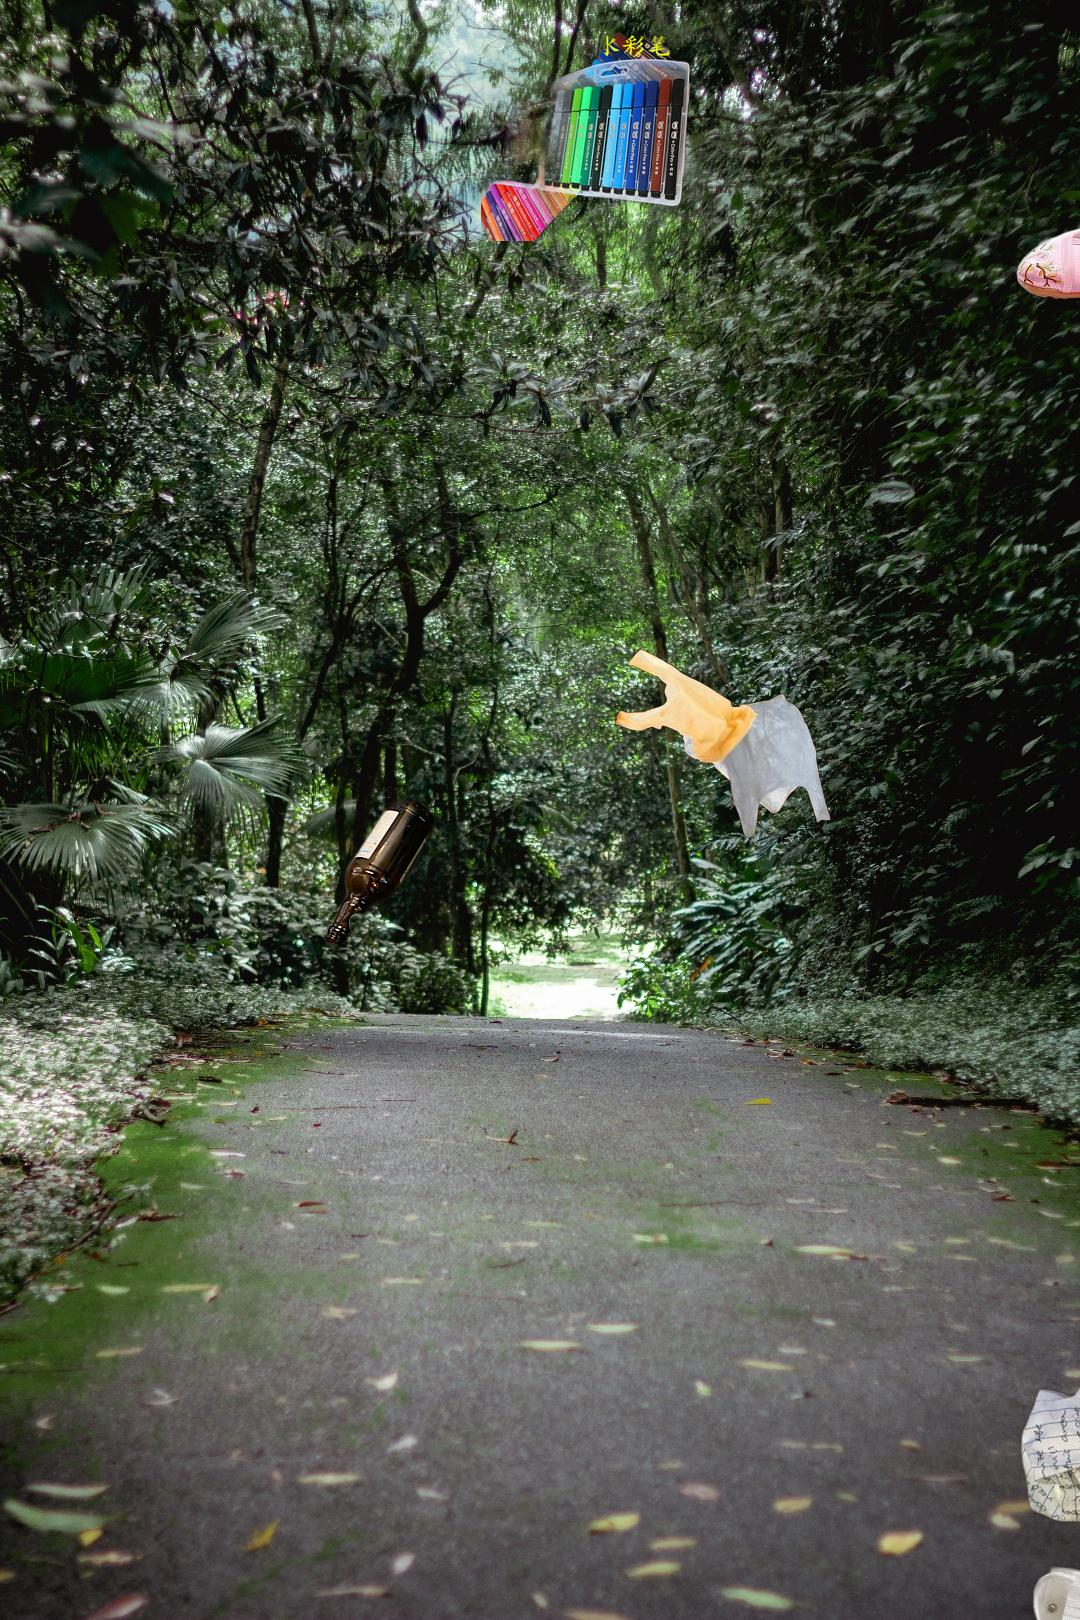biological: (986, 39, 1080, 529)
glass: (319, 794, 440, 958)
paper: (1016, 1353, 1080, 1524)
penholder: (481, 31, 691, 241)
plastic-bag: (612, 646, 834, 841)
shoes: (1015, 175, 1080, 340), (1054, 1299, 1080, 1456)
trash: (1028, 1558, 1080, 1620)
